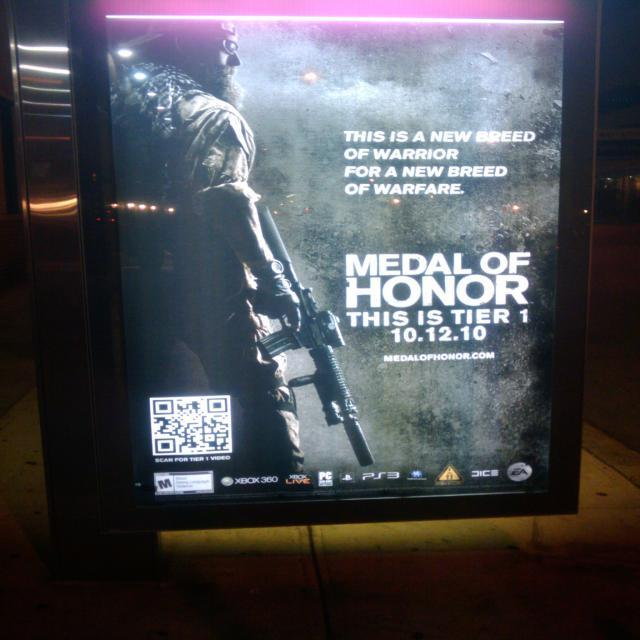qrcode: (154, 399, 230, 454)
